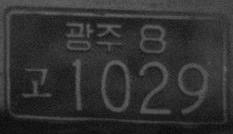0: (99, 58, 131, 114)
1: (64, 58, 92, 111)
2: (137, 59, 172, 115)
8: (138, 23, 166, 55)
9: (175, 61, 210, 116)
고: (21, 66, 52, 99)
광주_O: (64, 21, 123, 53)
